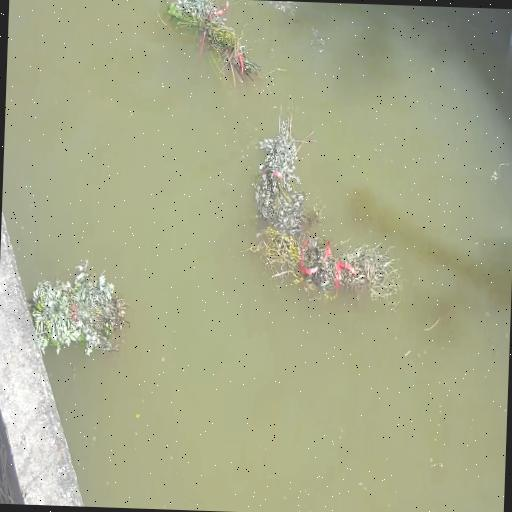twig: (250, 226, 400, 301), (30, 260, 132, 360), (250, 99, 319, 235), (165, 0, 261, 87)
